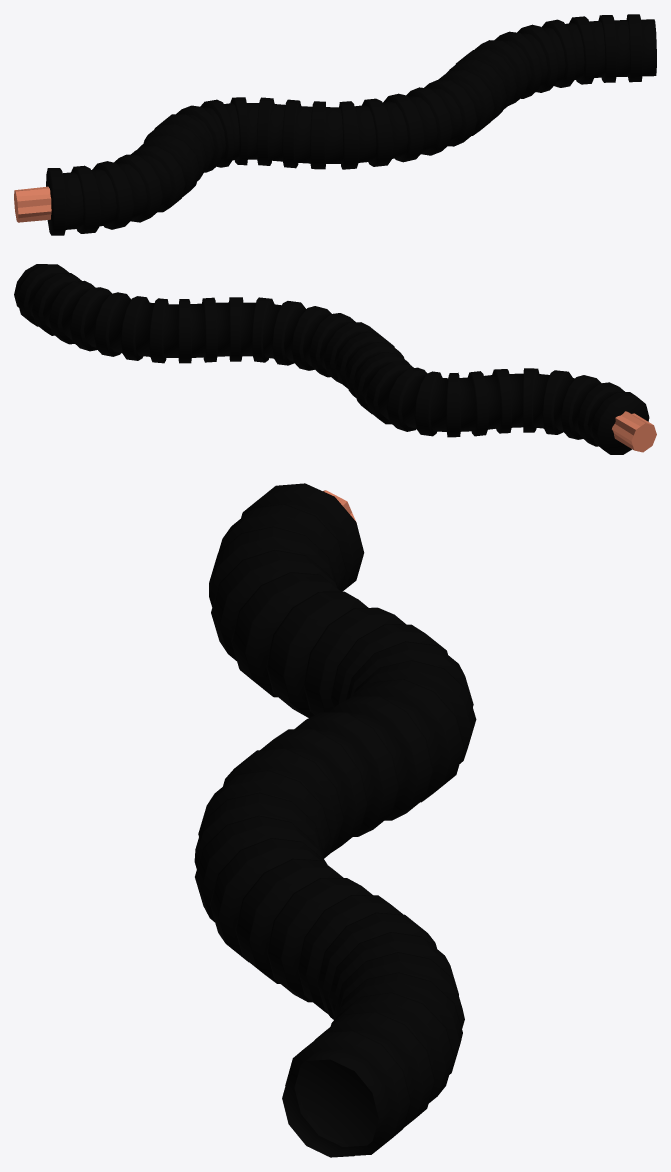
Rendered from NegativeWire_02.fbx.
The picture shows the model from 3 angles, top to bottom: view 1: azimuth 30°, elevation 25°; view 2: azimuth 150°, elevation 25°; view 3: azimuth 270°, elevation 25°; orthographic projection. The views are drawn at different scales.
Parts seen in each view (by area): view 1: Positive.002; view 2: Positive.002; view 3: Positive.002.
Boxes of the visible parts, left/top/right/bottom form: Positive.002: left=14, top=14, right=656, bottom=235; Positive.002: left=14, top=264, right=656, bottom=454; Positive.002: left=194, top=483, right=476, bottom=1157.
Bounding box in the file's own units: 319 × 28.59 × 62.43.
